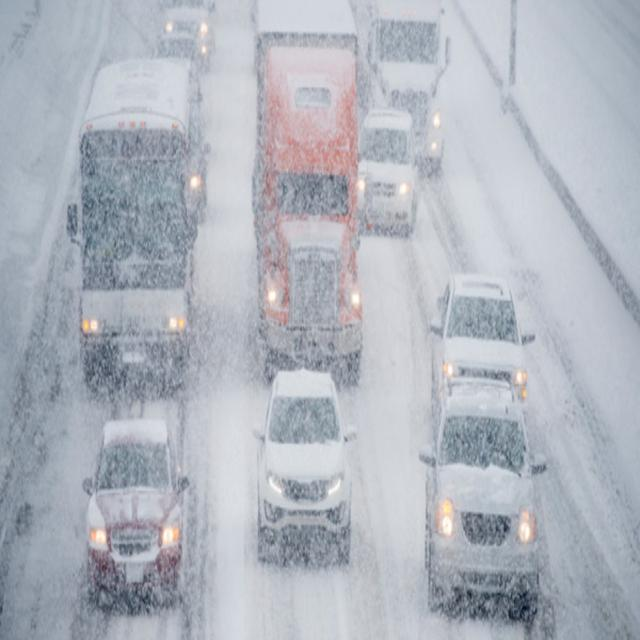bus: (258, 40, 364, 388), (360, 5, 444, 166)
car: (424, 386, 544, 620), (252, 372, 356, 564), (84, 420, 190, 603), (428, 278, 530, 423), (356, 110, 420, 237), (163, 5, 212, 57), (191, 129, 203, 236)
truck: (82, 59, 190, 380)
